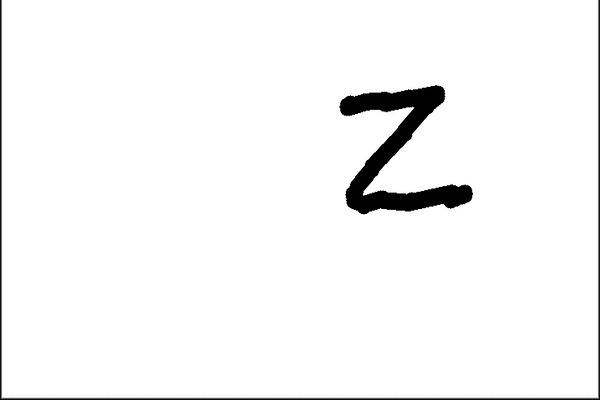Z: (330, 80, 478, 217)
